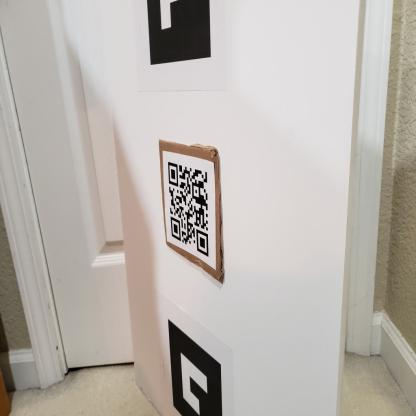qr: (166, 159, 213, 259)
